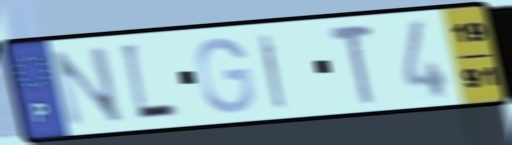4: (400, 16, 452, 102)
G: (193, 34, 258, 116)
I: (255, 31, 289, 112)
L: (117, 40, 183, 125)
N: (49, 43, 128, 130)
T: (325, 23, 379, 107)
